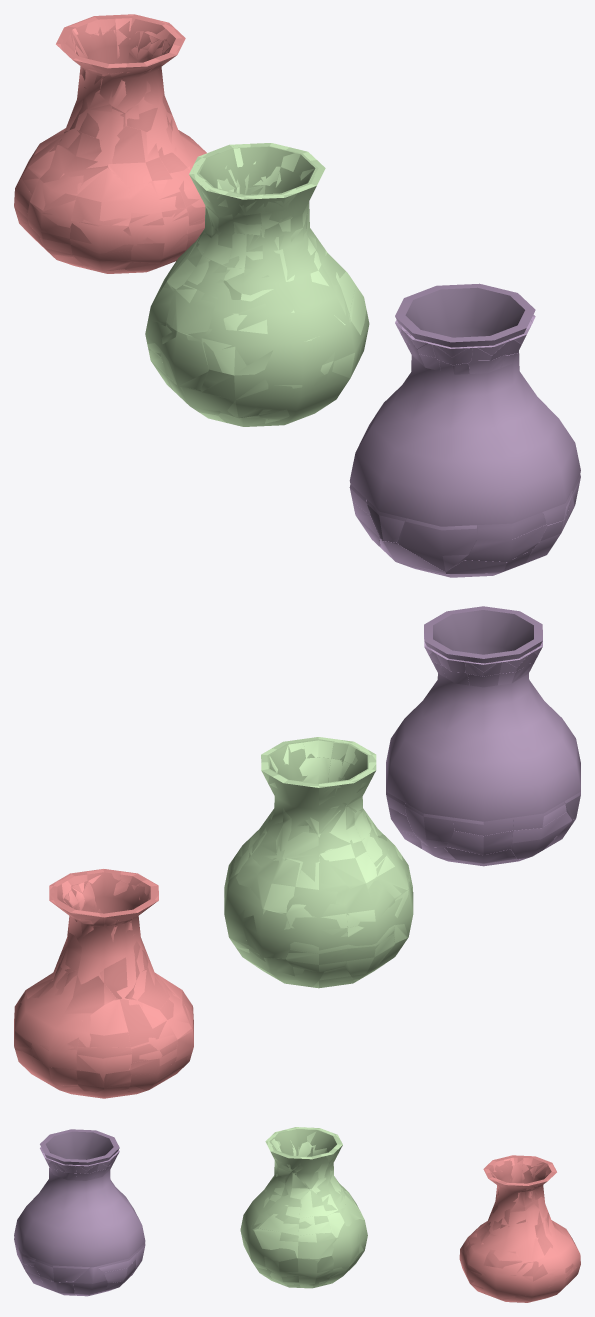
Rendered from vases.fbx.
The picture shows the model from 3 angles, top to bottom: view 1: azimuth 30°, elevation 25°; view 2: azimuth 150°, elevation 25°; view 3: azimuth 270°, elevation 25°; orthographic projection. The views are drawn at different scales.
Parts seen in each view (by area): view 1: vase3, vase2, vase1, polySurface230, polySurface45, polySurface65, polySurface186, polySurface97, polySurface250, polySurface163, polySurface111, polySurface29 (+14 smaller); view 2: vase3, vase2, vase1, polySurface120, polySurface196, polySurface30, polySurface147, polySurface89, polySurface213, polySurface228, polySurface100, polySurface239 (+18 smaller); view 3: vase3, vase1, vase2, polySurface124, polySurface156, polySurface222, polySurface215, polySurface116, polySurface165, polySurface142, polySurface185, polySurface161 (+14 smaller).
Boxes of the visible parts, <box> form: vase3: <box>349,283,580,526</box>; vase2: <box>145,144,369,426</box>; vase1: <box>14,14,206,273</box>; polySurface230: <box>397,518,476,571</box>; polySurface45: <box>71,168,130,225</box>; polySurface65: <box>108,126,172,187</box>; polySurface186: <box>166,284,215,337</box>; polySurface97: <box>50,130,107,182</box>; polySurface250: <box>465,524,547,561</box>; polySurface163: <box>202,369,268,418</box>; polySurface111: <box>201,329,272,375</box>; polySurface29: <box>129,179,185,214</box>; vase3: <box>386,606,580,821</box>; vase2: <box>224,739,413,988</box>; vase1: <box>14,869,193,1098</box>; polySurface120: <box>251,857,299,914</box>; polySurface196: <box>320,841,377,888</box>; polySurface30: <box>78,998,130,1047</box>; polySurface147: <box>345,880,394,927</box>; polySurface89: <box>120,999,166,1047</box>; polySurface213: <box>405,803,454,847</box>; polySurface228: <box>511,812,571,859</box>; polySurface100: <box>64,970,115,1013</box>; polySurface239: <box>446,830,512,855</box>; vase3: <box>14,1129,145,1267</box>; vase1: <box>459,1155,580,1302</box>; vase2: <box>240,1127,367,1287</box>; polySurface124: <box>298,1233,336,1258</box>; polySurface156: <box>254,1228,298,1258</box>; polySurface222: <box>33,1259,89,1282</box>; polySurface215: <box>73,1266,107,1295</box>; polySurface116: <box>298,1256,333,1277</box>; polySurface165: <box>258,1214,299,1235</box>; polySurface142: <box>299,1190,326,1218</box>; polySurface185: <box>264,1256,298,1276</box>; polySurface161: <box>298,1216,331,1235</box>.
Bounding box in the file's own units: 3.47 × 3.43 × 12.5.
